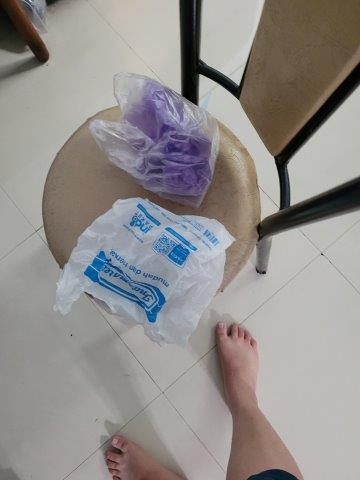plastik: (55, 198, 236, 343), (89, 69, 222, 205)
